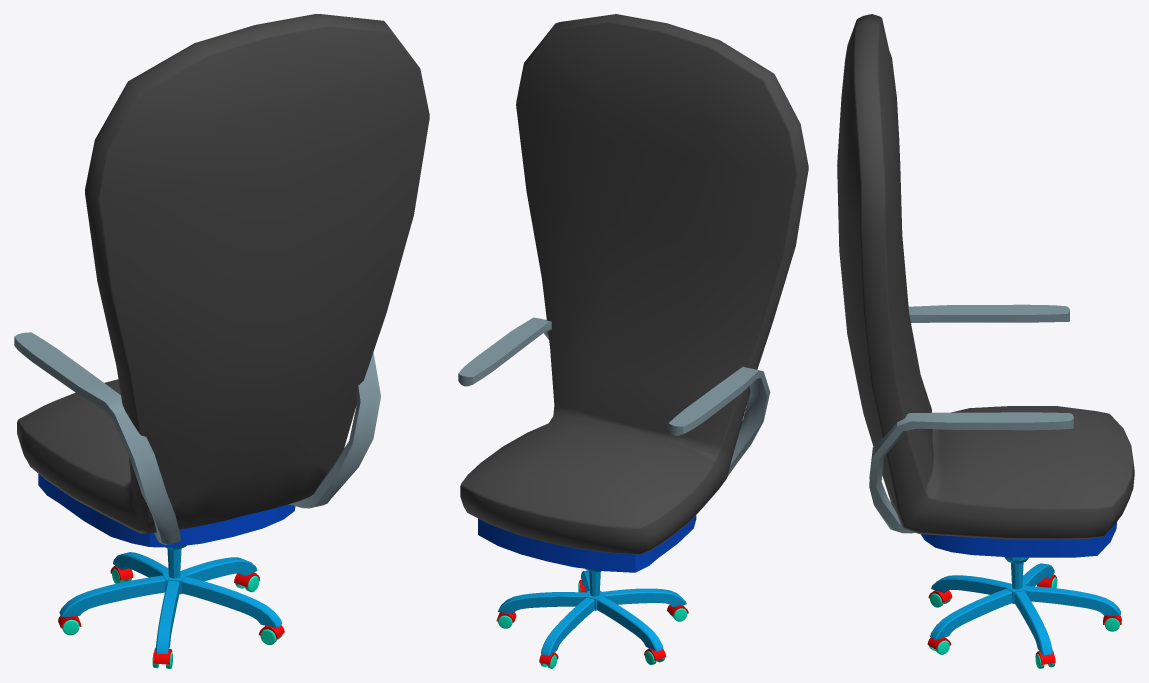
3 views of the same model, side by side, from view 1: azimuth 30°, elevation 25°; view 2: azimuth 150°, elevation 25°; view 3: azimuth 270°, elevation 25° (orthographic). The views are drawn at different scales.
Visible parts, largest first — view 1: polySurface18, polySurface1, polySurface20, polySurface17, polySurface19; view 2: polySurface18, polySurface1, polySurface17, polySurface20, polySurface19; view 3: polySurface18, polySurface1, polySurface19, polySurface17, polySurface20.
Boxes of the visible parts, box(x1,y1,x2,y2) form: polySurface18: box(17, 14, 429, 533); polySurface1: box(59, 545, 282, 653); polySurface20: box(14, 332, 181, 544); polySurface17: box(38, 474, 295, 547); polySurface19: box(288, 352, 380, 508); polySurface18: box(460, 14, 808, 554); polySurface1: box(498, 568, 686, 655); polySurface17: box(478, 515, 696, 572); polySurface20: box(668, 367, 770, 476); polySurface19: box(458, 317, 551, 386); polySurface18: box(837, 14, 1134, 539); polySurface1: box(930, 557, 1120, 655); polySurface19: box(869, 412, 1073, 533); polySurface17: box(920, 521, 1117, 557); polySurface20: box(908, 304, 1069, 323).
Bounding box in the file's own units: 0.6776 × 1.25 × 0.5749.
